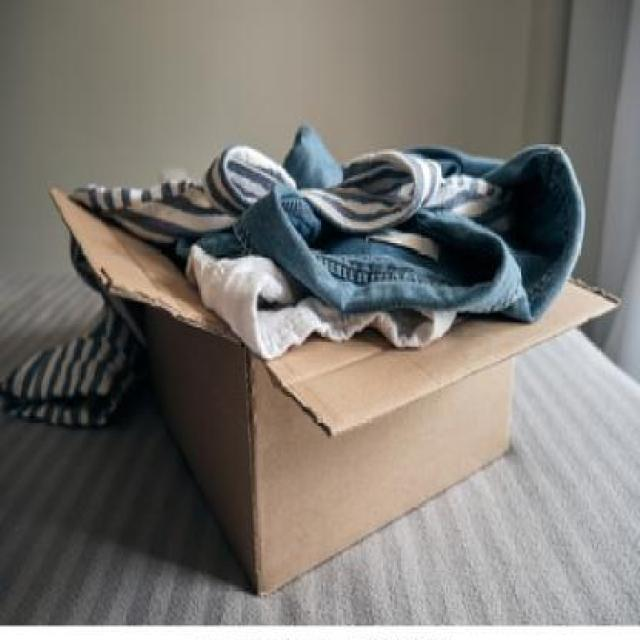box: (39, 113, 621, 611)
